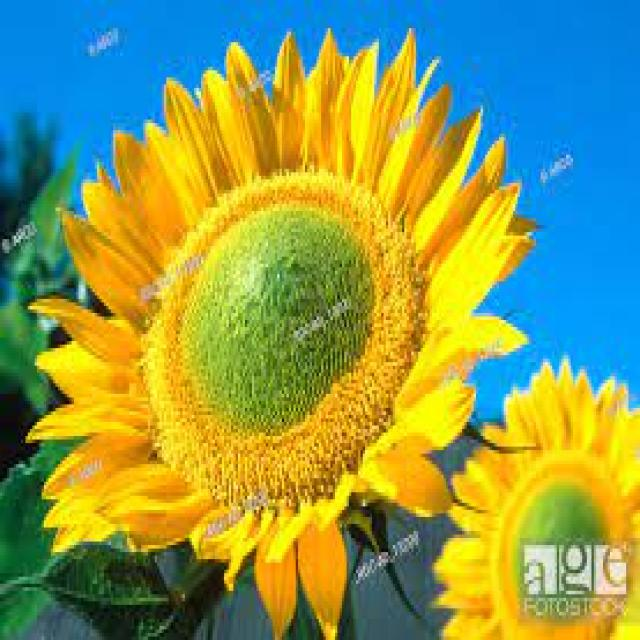sunflower: (21, 17, 547, 640), (427, 351, 637, 640)
